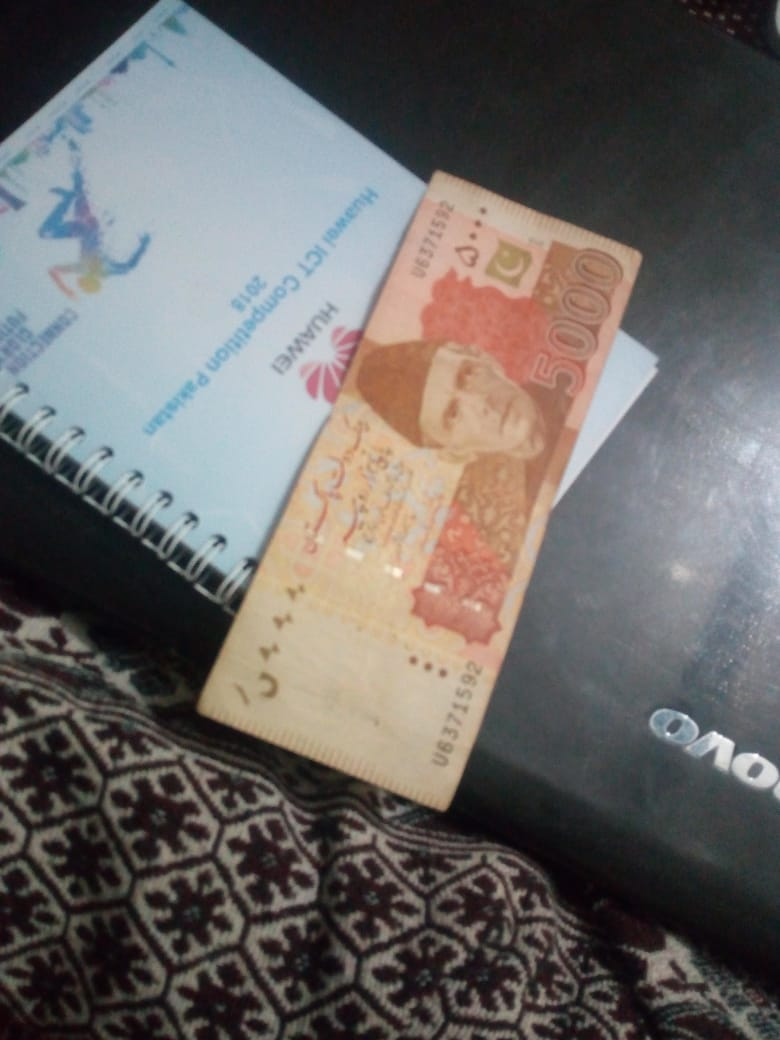5000 rupee: (180, 188, 658, 768)
